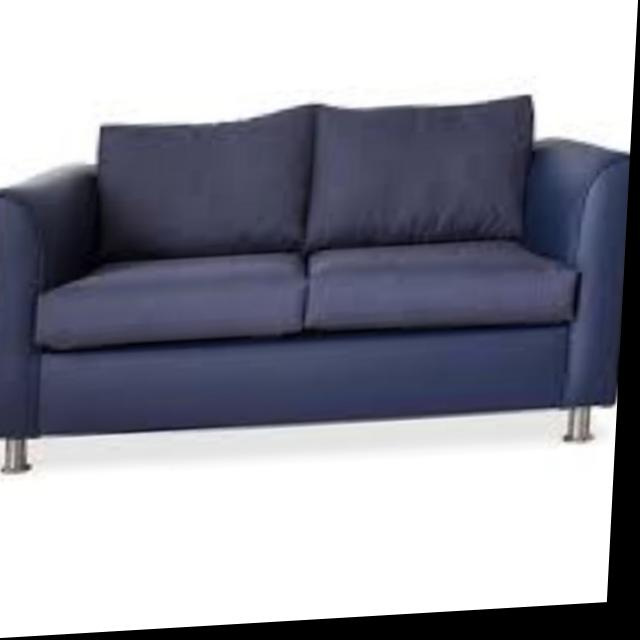Sofa: (0, 92, 635, 481)
